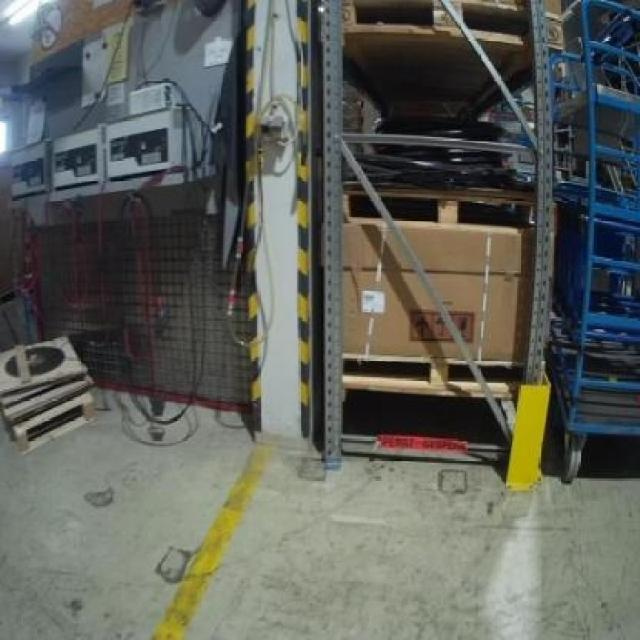pallets: (397, 218, 529, 358), (343, 218, 458, 357), (0, 335, 94, 448)
